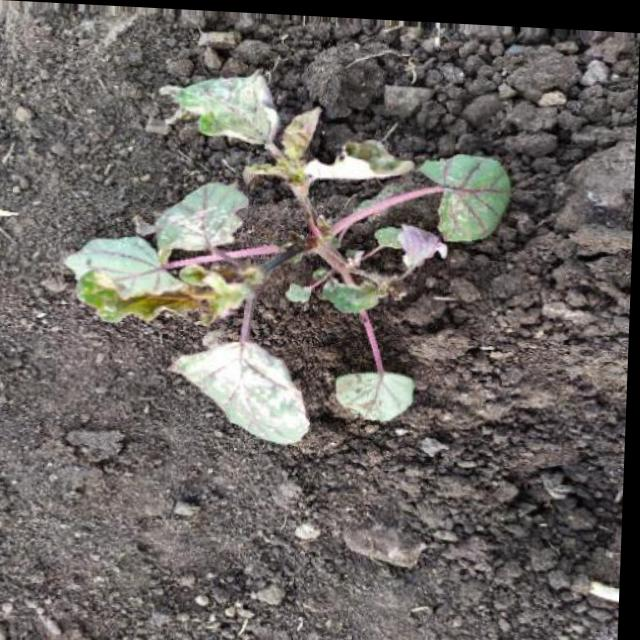weed: (48, 62, 518, 451)
